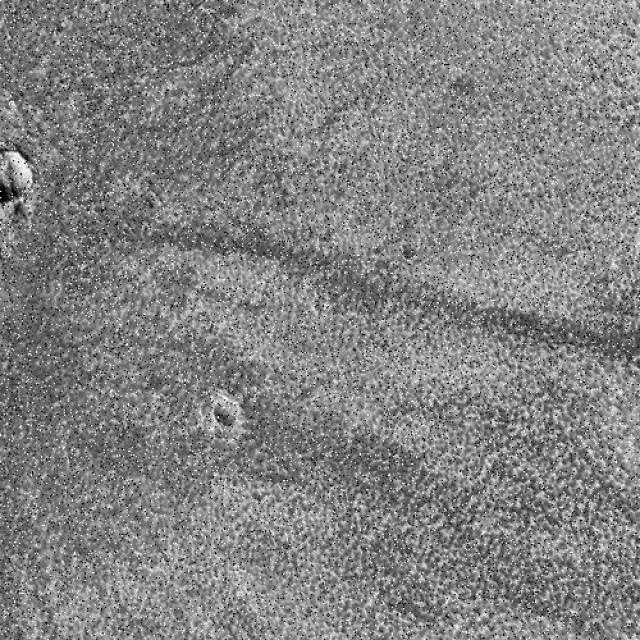crater: (0, 114, 101, 290), (198, 382, 258, 438), (0, 507, 24, 571)
